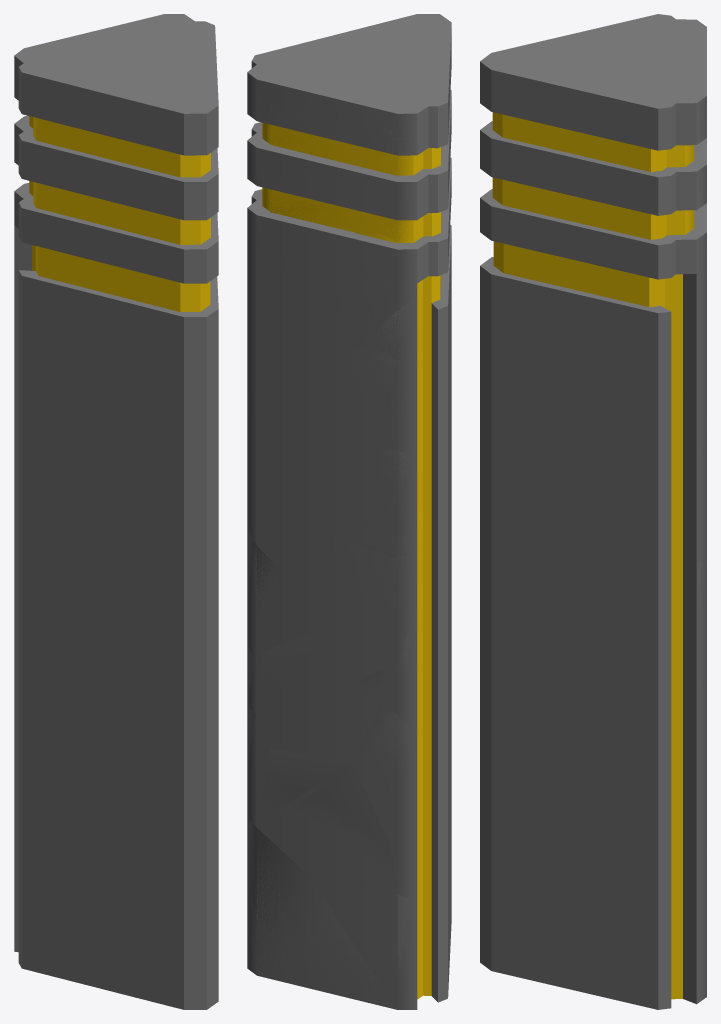
The model's file is BuildParts.fbx.
3 views of the same model, side by side, from view 1: azimuth 30°, elevation 25°; view 2: azimuth 150°, elevation 25°; view 3: azimuth 270°, elevation 25° (orthographic).
Parts seen in each view (by area): view 1: MeshComplete, mesh_Building_cell.008, mesh_Building_cell.056, mesh_Building_cell.090, mesh_Building_cell.058, mesh_Building_cell.004, mesh_Building_cell.071, mesh_Building_cell.063, mesh_Building_cell.072, mesh_Building_cell.070, mesh_Building_cell.033, mesh_Building_cell.074 (+18 smaller); view 2: MeshComplete, mesh_Building_cell.061, mesh_Building_cell.003, mesh_Building_cell.085, mesh_Building_cell.031, mesh_Building_cell.073, mesh_Building_cell.014, mesh_Building_cell.053, mesh_Building_cell.069, mesh_Building_cell.080, mesh_Building_cell.034, mesh_Building_cell.038 (+12 smaller); view 3: MeshComplete, mesh_Building_cell.012, mesh_Building_cell.028, mesh_Building_cell.017, mesh_Building_cell.082, mesh_Building_cell.055, mesh_Building_cell, mesh_Building_cell.090, mesh_Building_cell.066, mesh_Building_cell.002, mesh_Building_cell.058, mesh_Building_cell.070 (+15 smaller).
Boxes of the visible parts, <box> form: MeshComplete: <box>14,14,218,1009</box>; mesh_Building_cell.008: <box>92,419,210,545</box>; mesh_Building_cell.056: <box>68,735,217,874</box>; mesh_Building_cell.090: <box>119,520,218,640</box>; mesh_Building_cell.058: <box>97,251,218,370</box>; mesh_Building_cell.004: <box>132,637,218,799</box>; mesh_Building_cell.071: <box>44,640,134,764</box>; mesh_Building_cell.063: <box>44,323,128,425</box>; mesh_Building_cell.072: <box>99,869,199,963</box>; mesh_Building_cell.070: <box>88,578,173,663</box>; mesh_Building_cell.033: <box>129,130,218,259</box>; mesh_Building_cell.074: <box>125,366,207,478</box>; MeshComplete: <box>247,14,451,1009</box>; mesh_Building_cell.061: <box>261,748,449,893</box>; mesh_Building_cell.003: <box>247,821,313,984</box>; mesh_Building_cell.085: <box>305,879,450,1005</box>; mesh_Building_cell.031: <box>325,535,423,662</box>; mesh_Building_cell.073: <box>353,706,417,793</box>; mesh_Building_cell.014: <box>366,275,449,362</box>; mesh_Building_cell.053: <box>258,630,383,727</box>; mesh_Building_cell.069: <box>331,344,447,449</box>; mesh_Building_cell.080: <box>265,184,356,236</box>; mesh_Building_cell.034: <box>298,97,384,178</box>; mesh_Building_cell.038: <box>390,758,448,886</box>; MeshComplete: <box>480,14,706,1009</box>; mesh_Building_cell.012: <box>562,720,696,851</box>; mesh_Building_cell.028: <box>569,432,691,560</box>; mesh_Building_cell.017: <box>498,644,567,805</box>; mesh_Building_cell.082: <box>538,363,684,468</box>; mesh_Building_cell.055: <box>589,847,696,974</box>; mesh_Building_cell: <box>586,249,696,386</box>; mesh_Building_cell.090: <box>480,470,594,609</box>; mesh_Building_cell.066: <box>553,263,684,408</box>; mesh_Building_cell.002: <box>564,664,698,743</box>; mesh_Building_cell.058: <box>480,217,577,326</box>; mesh_Building_cell.070: <box>494,588,617,653</box>.
Size of the model in its own units: 189 by 839 by 192.
